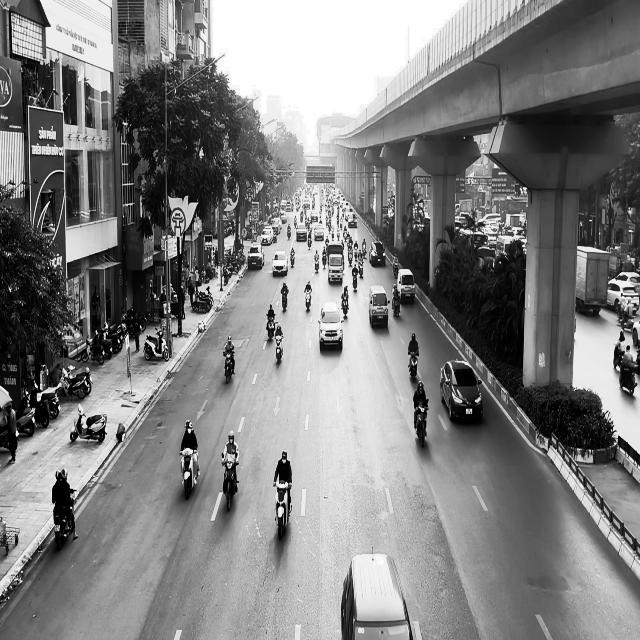car: (340, 550, 413, 640), (440, 359, 483, 422), (318, 300, 343, 350), (368, 285, 389, 328), (369, 241, 386, 267), (272, 250, 288, 276)
motorbike: (70, 403, 107, 443), (53, 489, 77, 550), (273, 480, 292, 539), (221, 452, 239, 512), (179, 447, 199, 499), (144, 328, 170, 361), (413, 399, 429, 447), (618, 360, 638, 395), (222, 348, 235, 384), (408, 351, 419, 382), (275, 334, 283, 363), (304, 284, 312, 310), (266, 316, 275, 338), (281, 287, 289, 310), (392, 294, 400, 316), (341, 294, 348, 316), (352, 270, 358, 291), (313, 256, 319, 273)
